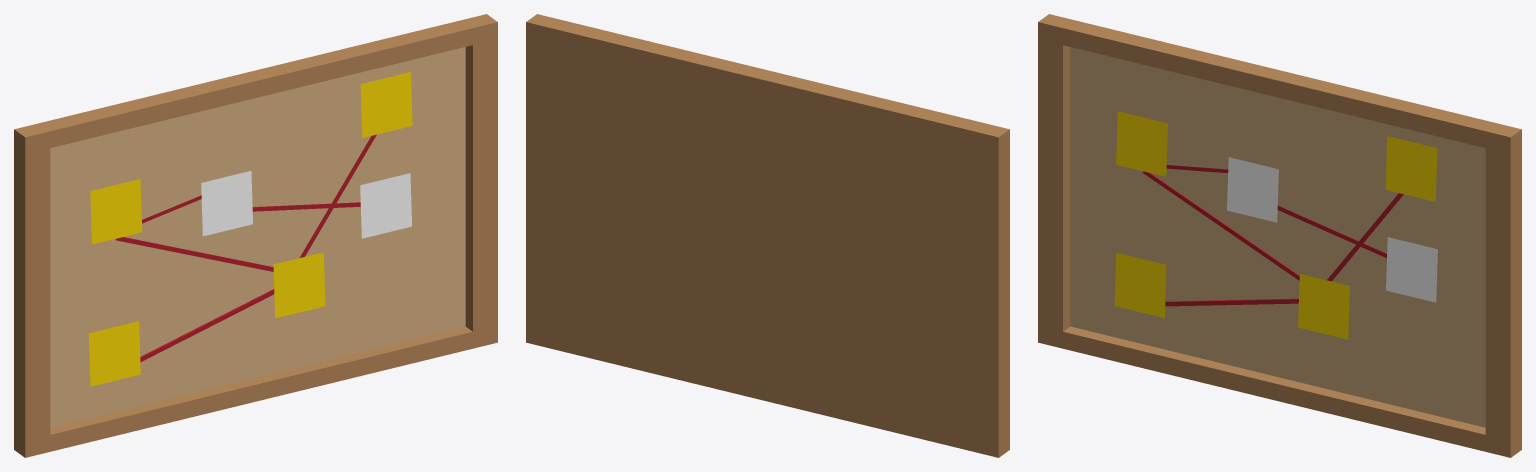
Rendered from notice_board.glb.
The picture shows the model from 3 angles, left to right: view 1: azimuth 30°, elevation 25°; view 2: azimuth 150°, elevation 25°; view 3: azimuth 330°, elevation 25°; orthographic projection.
Visible parts, largest first — view 1: WoodBoard, String4; view 2: WoodBoard; view 3: WoodBoard, String4.
Part boxes in pixels (x1=…): WoodBoard: x1=14, y1=14, x2=497, y2=457; String4: x1=88, y1=72, x2=412, y2=386; WoodBoard: x1=526, y1=14, x2=1009, y2=457; WoodBoard: x1=1038, y1=14, x2=1521, y2=457; String4: x1=1114, y1=111, x2=1437, y2=339.
Bounding box in the file's own units: 1.87 × 1.21 × 0.0756.
Materials: 1 (1 with a texture image).
